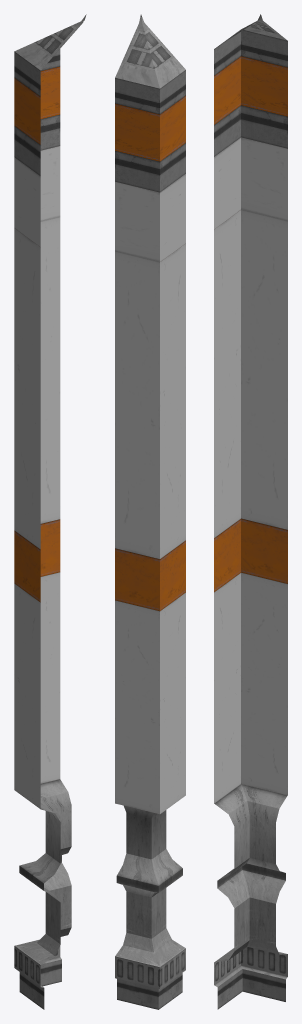
File: Wall_SharpCorner.fbx
The picture shows the model from 3 angles, left to right: view 1: azimuth 30°, elevation 25°; view 2: azimuth 150°, elevation 25°; view 3: azimuth 330°, elevation 25°; orthographic projection. The views are drawn at different scales.
Parts seen in each view (by area): view 1: Wall_SharpCorner; view 2: Wall_SharpCorner; view 3: Wall_SharpCorner.
Boxes of the visible parts, left/top/right/bottom form: Wall_SharpCorner: left=14, top=14, right=86, bottom=1009; Wall_SharpCorner: left=115, top=14, right=185, bottom=1009; Wall_SharpCorner: left=214, top=14, right=287, bottom=1009.
Bounding box in the file's own units: 0.4041 × 8.31 × 0.4041.
